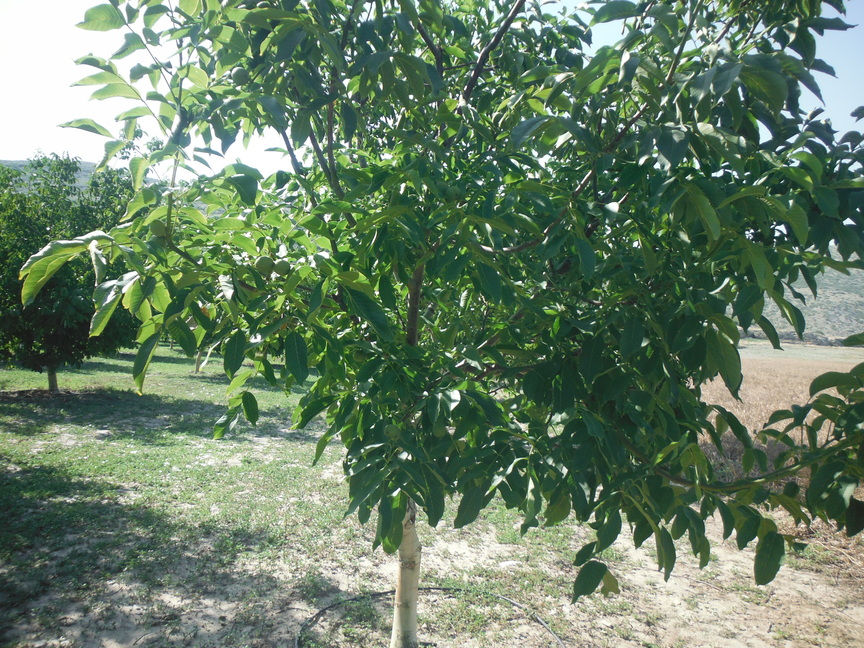walnut: (250, 250, 276, 275), (229, 62, 254, 87), (269, 256, 294, 278), (381, 420, 403, 444), (148, 217, 170, 238), (430, 418, 450, 441), (654, 468, 674, 491), (350, 345, 371, 364), (145, 233, 168, 250), (444, 184, 464, 203), (432, 176, 451, 195), (566, 278, 584, 298), (491, 107, 507, 128), (492, 201, 504, 214)
